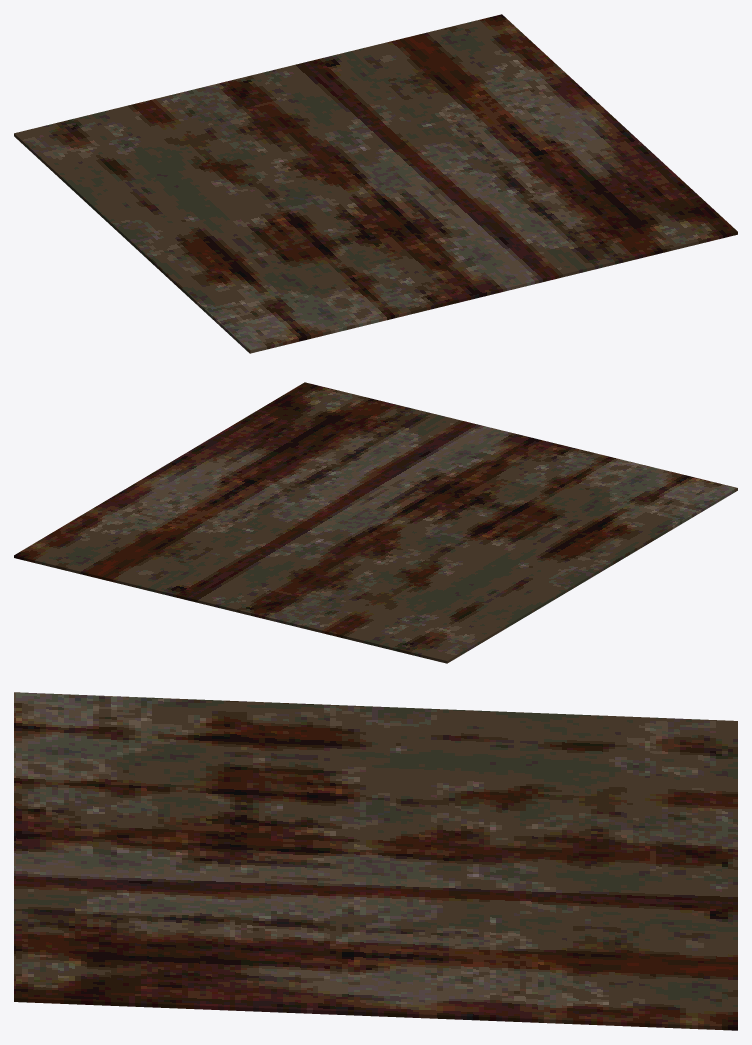
Rendered from sheet_metal_1.glb.
3 views of the same model, one above another, from view 1: azimuth 30°, elevation 25°; view 2: azimuth 150°, elevation 25°; view 3: azimuth 270°, elevation 25° (orthographic). The views are drawn at different scales.
Parts seen in each view (by area): view 1: Sheet_Metal_1; view 2: Sheet_Metal_1; view 3: Sheet_Metal_1.
Boxes of the visible parts, x1,y1,x2,y2 form: Sheet_Metal_1: [14, 14, 737, 353]; Sheet_Metal_1: [14, 382, 737, 663]; Sheet_Metal_1: [14, 692, 737, 1030].
Bounding box in the file's own units: 1.78 × 0.00937 × 1.63.
Materials: 1 (1 with a texture image).
